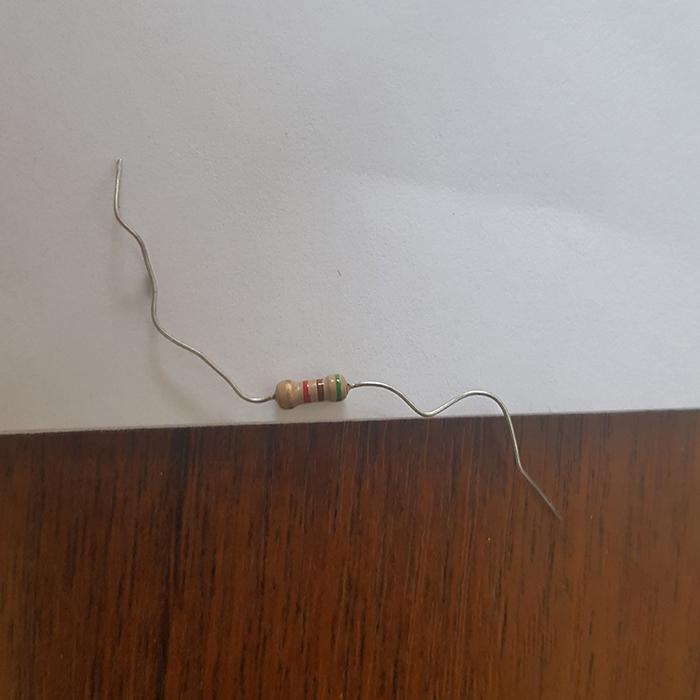resistor: (274, 372, 350, 409)
